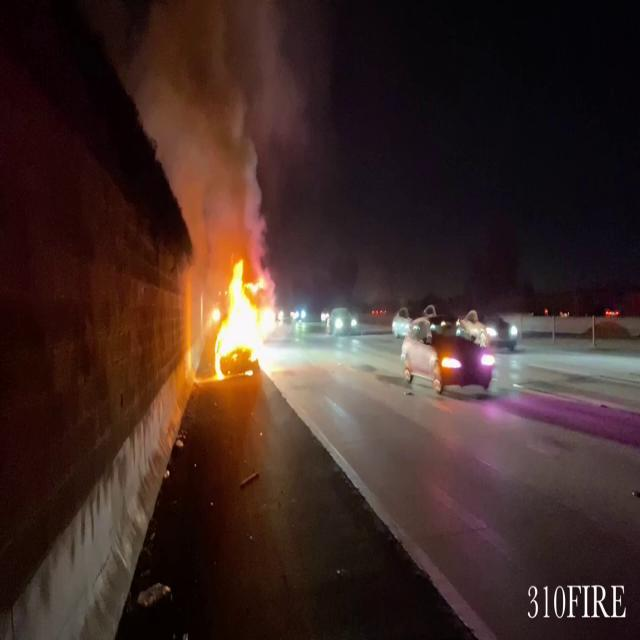Fire: (201, 254, 285, 379)
Smoke: (135, 0, 305, 258)
